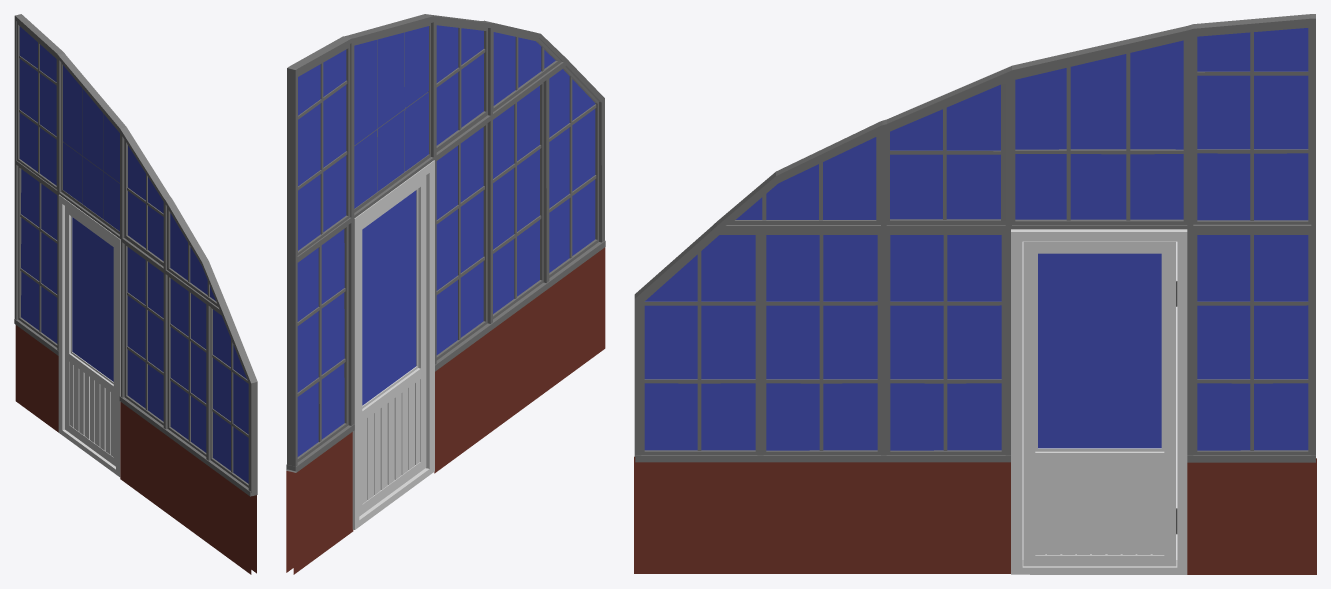
The model's file is EndWallDoor.fbx.
3 views of the same model, side by side, from view 1: azimuth 30°, elevation 25°; view 2: azimuth 150°, elevation 25°; view 3: azimuth 270°, elevation 25° (orthographic). The views are drawn at different scales.
Visible parts, largest first — view 1: EndWallDoor, Door; view 2: EndWallDoor, Door; view 3: EndWallDoor, Door.
Part boxes in pixels (left/top/right/bottom): EndWallDoor: left=14, top=14, right=257, bottom=574; Door: left=65, top=206, right=115, bottom=466; EndWallDoor: left=286, top=14, right=605, bottom=574; Door: left=359, top=175, right=426, bottom=516; EndWallDoor: left=634, top=14, right=1316, bottom=574; Door: left=1023, top=241, right=1176, bottom=566.
Bounding box in the file's own units: 12.05 × 397 × 442.
